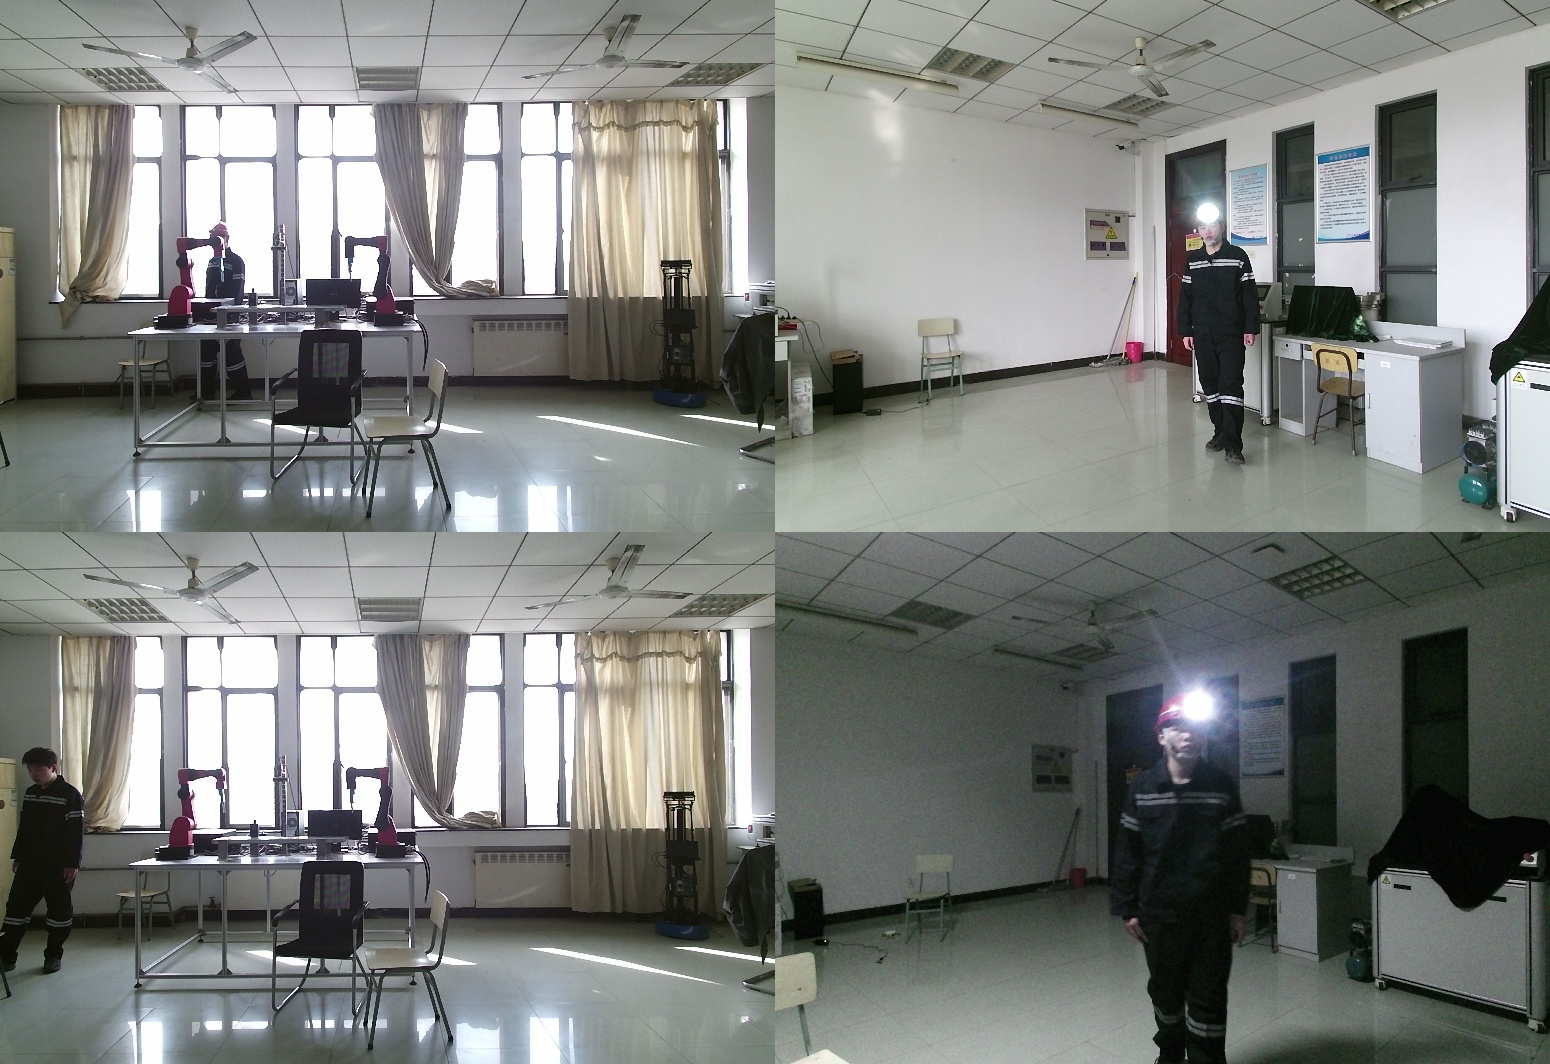person: (1113, 695, 1259, 1064), (1177, 204, 1272, 469), (1, 747, 91, 973), (190, 224, 255, 403)
